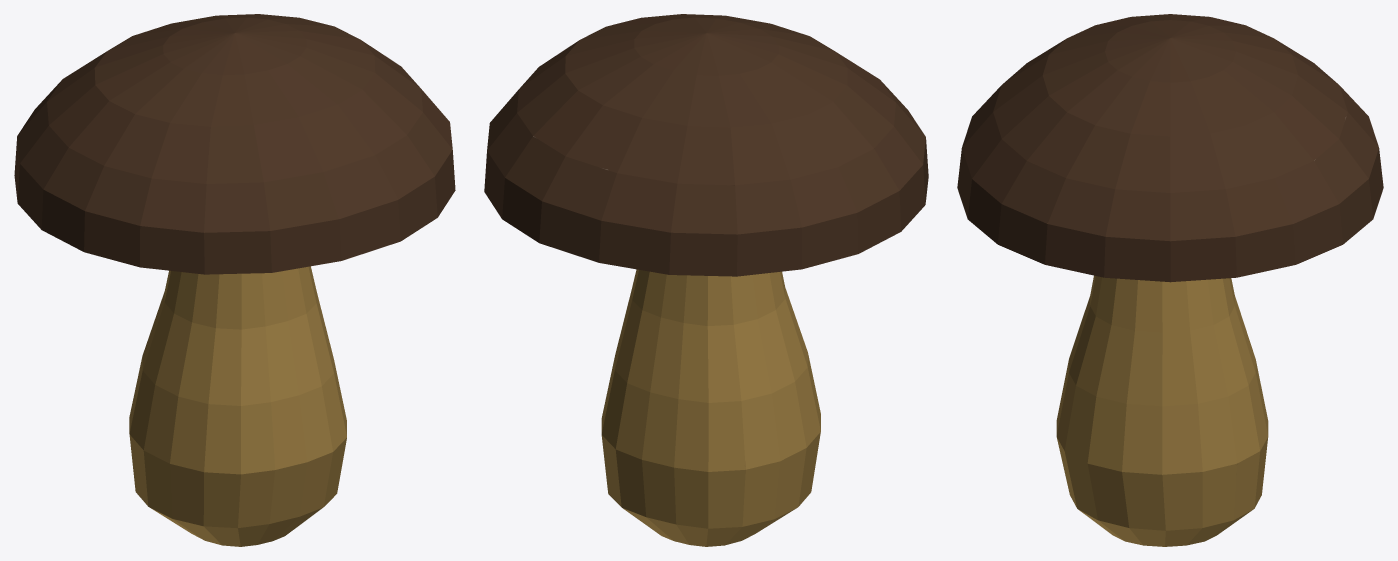
File: Podgrzybek.fbx
3 views of the same model, side by side, from view 1: azimuth 30°, elevation 25°; view 2: azimuth 150°, elevation 25°; view 3: azimuth 270°, elevation 25° (orthographic).
Visible parts, largest first — view 1: Podgrzybek; view 2: Podgrzybek; view 3: Podgrzybek.
Part boxes in pixels (box(x1,y1,x2,y2)): Podgrzybek: box(14, 14, 455, 546); Podgrzybek: box(484, 14, 928, 546); Podgrzybek: box(957, 14, 1383, 546).
Size of the model in its own units: 17.07 by 20.57 by 16.31.
Materials: 1 (1 with a texture image).
